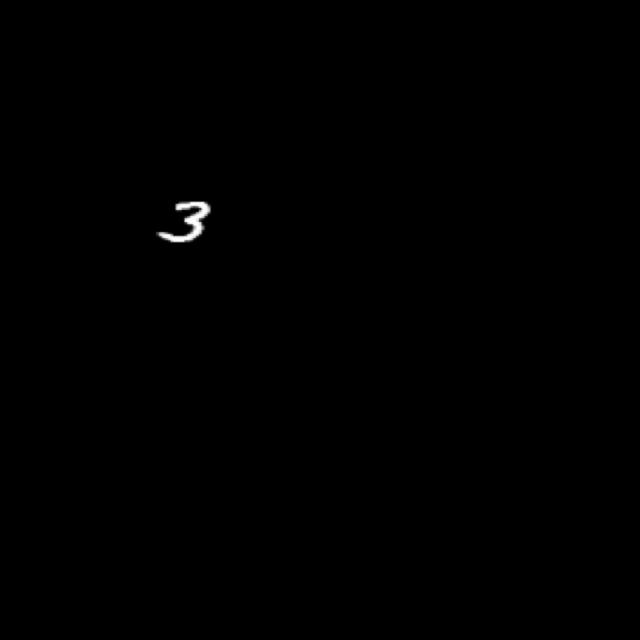three -3-: (155, 195, 221, 258)
